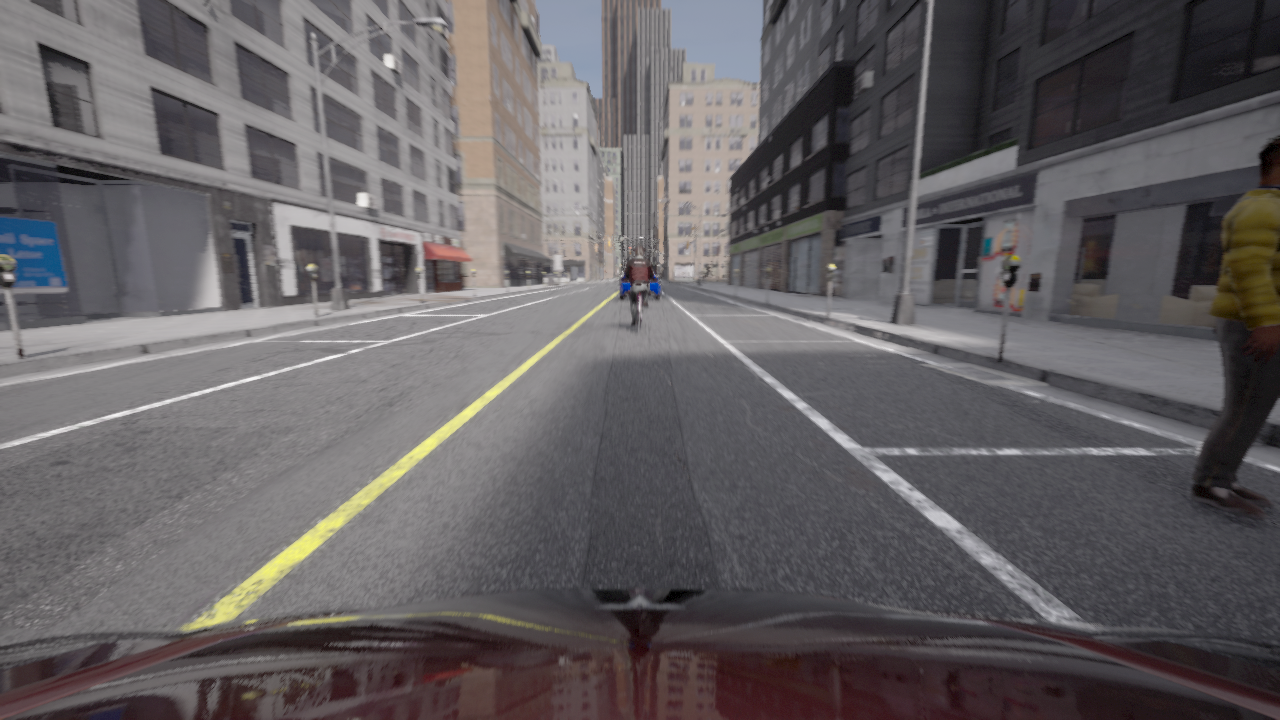cyclist: (0, 588, 1279, 719), (619, 270, 659, 299), (633, 293, 647, 322)
pedestrian: (1190, 135, 1279, 520)
